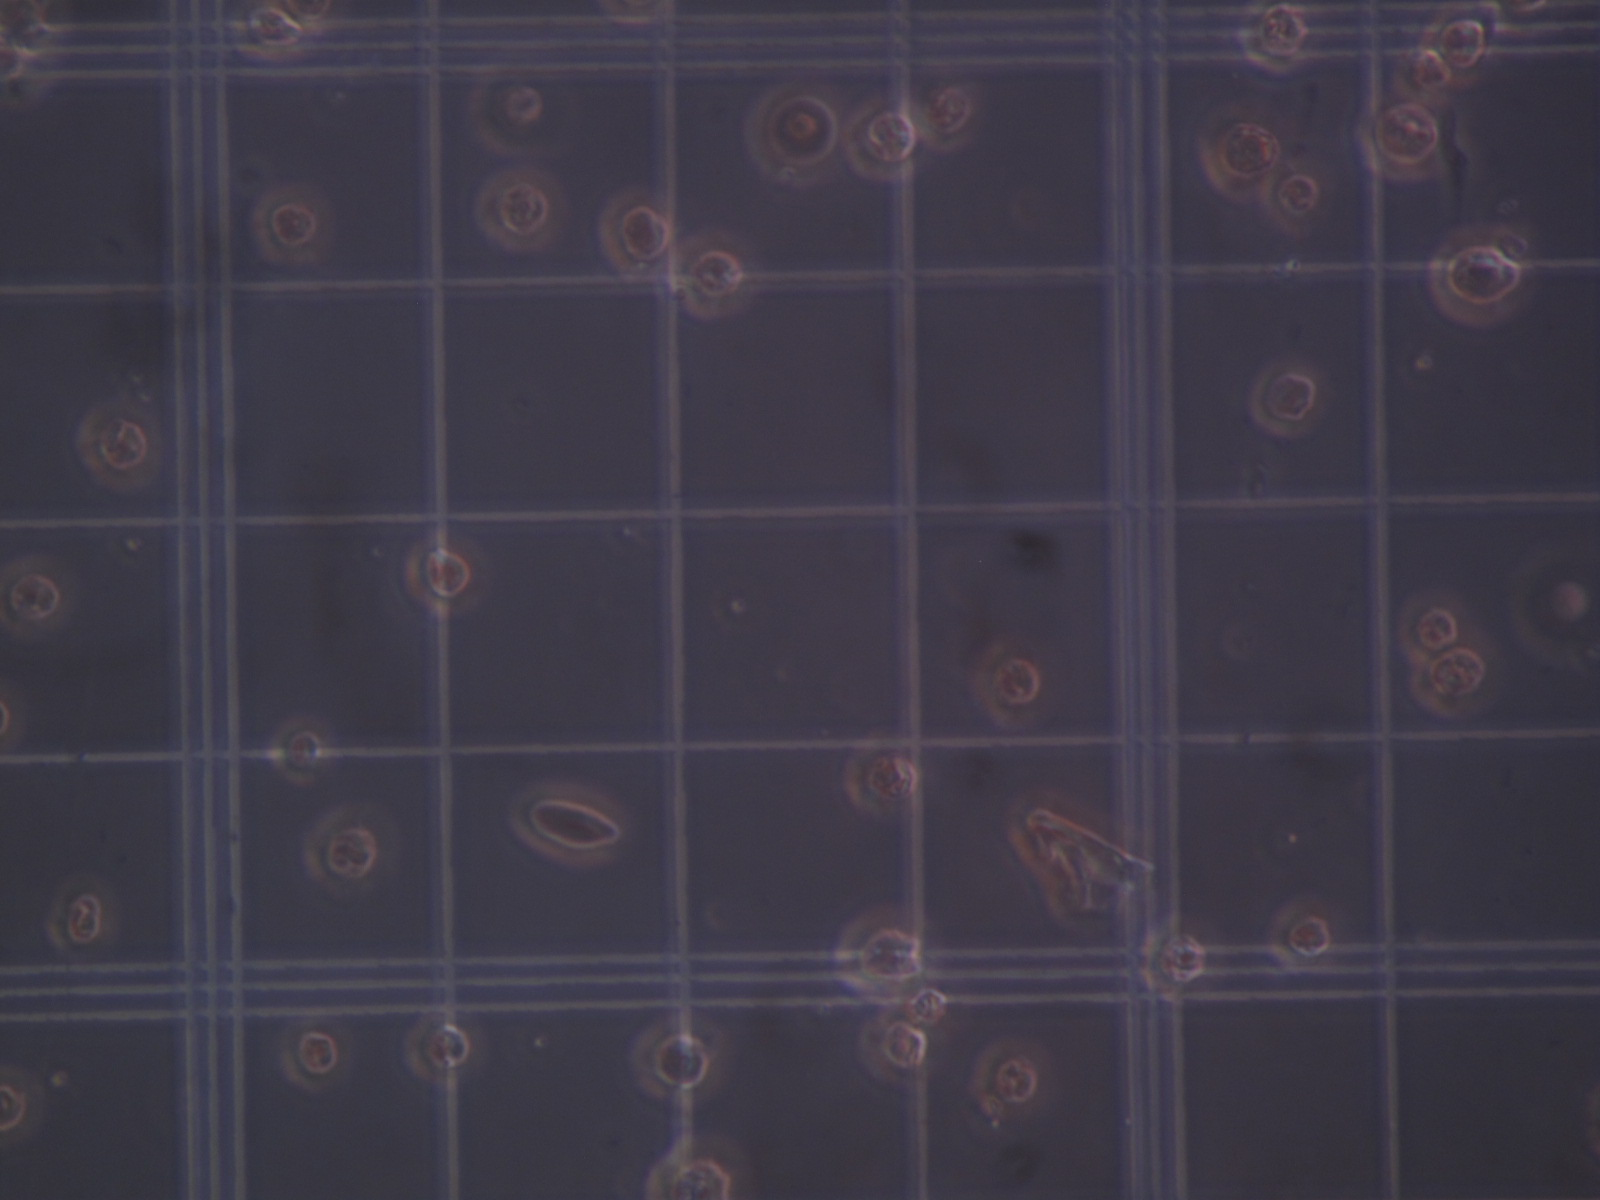hemo: (1429, 223, 1534, 328), (500, 776, 627, 862), (746, 84, 842, 188), (632, 1008, 726, 1107), (1196, 101, 1281, 197), (304, 798, 401, 882), (472, 166, 569, 250), (840, 901, 923, 997), (1354, 100, 1448, 184), (465, 64, 547, 156), (673, 231, 755, 320), (406, 529, 488, 619), (78, 403, 159, 492), (1, 552, 79, 642), (974, 1036, 1057, 1118), (252, 182, 333, 266), (598, 188, 670, 280), (646, 1136, 746, 1200), (1249, 355, 1323, 441), (971, 639, 1042, 729), (839, 736, 918, 814), (843, 98, 918, 180), (48, 871, 121, 955), (1409, 649, 1497, 718), (1424, 3, 1494, 88), (406, 1015, 485, 1087), (278, 1024, 357, 1092), (860, 1013, 932, 1085), (1139, 926, 1208, 1001), (1237, 1, 1306, 73), (1266, 897, 1333, 971), (1395, 589, 1459, 663), (228, 1, 309, 61), (268, 715, 336, 783), (1264, 163, 1323, 236), (916, 84, 975, 153), (1391, 47, 1456, 105), (1, 37, 54, 106), (897, 983, 965, 1034), (1, 1065, 43, 1142)
